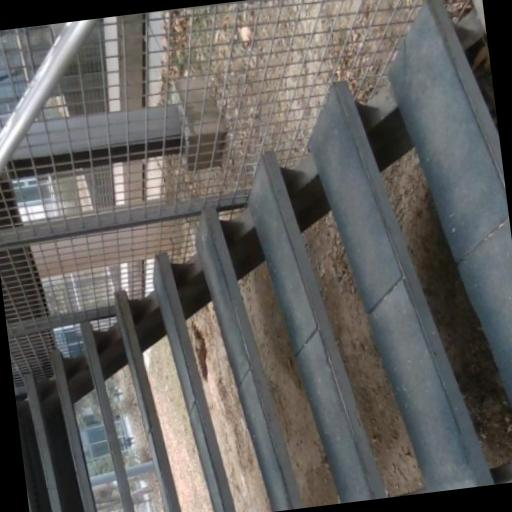stairs: (16, 0, 511, 511)
